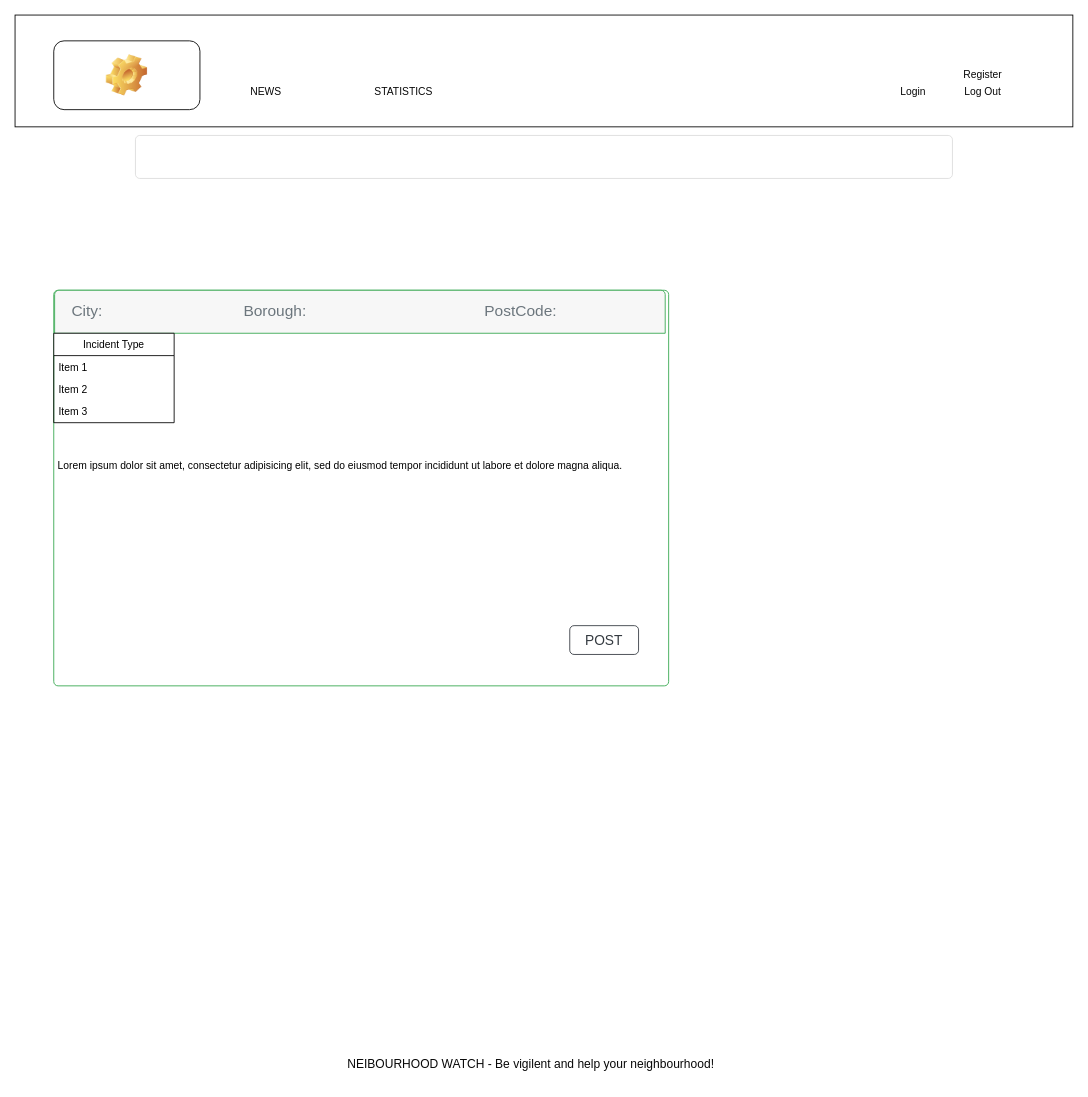
This 1088x1097 diagram has some shape labels left out. The shapes that lost their labels are listed below. From the top down, each one's centre as x and y in pixels, then its label:
At point (126, 75): "Icon".
At point (543, 156): "Find out more about us".
